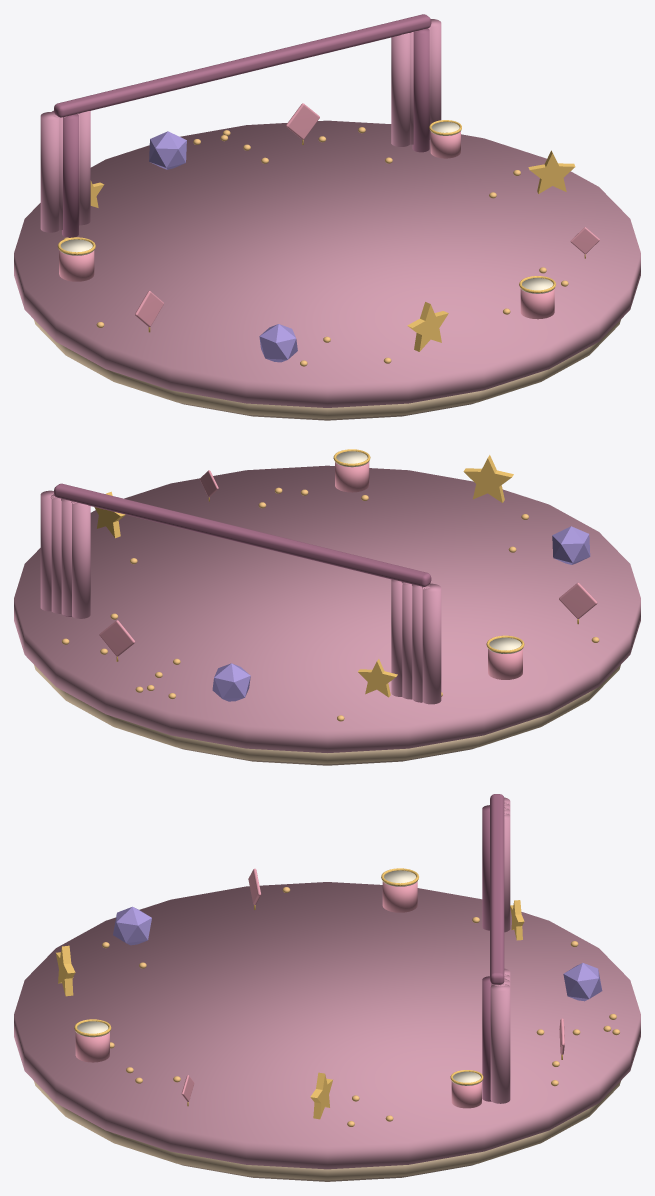
Rendered from world.glb.
The picture shows the model from 3 angles, top to bottom: view 1: azimuth 30°, elevation 25°; view 2: azimuth 150°, elevation 25°; view 3: azimuth 270°, elevation 25°; orthographic projection.
Visible parts, largest first — view 1: Cone, Cone.001, Cube, Cone.004, Cone.009, Cone.008, Cone.003, drum.002, drum.003, Cone.007, Cone.012, gem.001 (+6 smaller); view 2: Cone, Cone.001, Cube, Cone.004, Cone.009, drum.002, Cone.012, drum.003, Cone.007, Cone.005, Cone.010, Cone.011 (+9 smaller); view 3: Cone, Cone.001, Cube, Cone.012, drum.002, drum.003, gem.002, drum.001, gem.001, Cone.008, Cone.003, Cone.007 (+2 smaller).
Part boxes in pixels (x1,y1,x2,y2): Cone: (14, 120, 640, 407); Cone.001: (34, 320, 620, 419); Cube: (54, 14, 431, 117); Cone.004: (40, 112, 59, 232); Cone.009: (391, 33, 409, 146); Cone.008: (412, 28, 429, 152); Cone.003: (62, 114, 78, 237); drum.002: (57, 237, 95, 281); drum.003: (519, 276, 555, 319); Cone.007: (79, 111, 90, 225); Cone.012: (430, 19, 441, 139); gem.001: (149, 131, 186, 169); Cone: (14, 465, 640, 752); Cone.001: (34, 665, 620, 764); Cube: (54, 483, 431, 586); Cone.004: (422, 583, 441, 704); Cone.009: (71, 501, 90, 618); drum.002: (486, 635, 524, 679); Cone.012: (40, 490, 56, 611); drum.003: (333, 449, 370, 492); Cone.007: (391, 579, 406, 696); Cone.005: (412, 584, 429, 701); Cone.010: (61, 498, 76, 616); Cone.011: (50, 494, 61, 613); Cone: (14, 882, 640, 1169); Cone.001: (34, 1081, 620, 1180); Cube: (490, 794, 504, 984); Cone.012: (490, 983, 510, 1103); drum.002: (381, 868, 418, 912); drum.003: (74, 1019, 111, 1062); gem.002: (113, 906, 151, 945); drum.001: (450, 1070, 483, 1108); gem.001: (563, 963, 602, 1001); Cone.008: (482, 976, 491, 1101); Cone.003: (482, 805, 489, 930); Cone.007: (504, 813, 510, 932).
Size of the model in its own units: 9.6 by 2.98 by 9.6.
